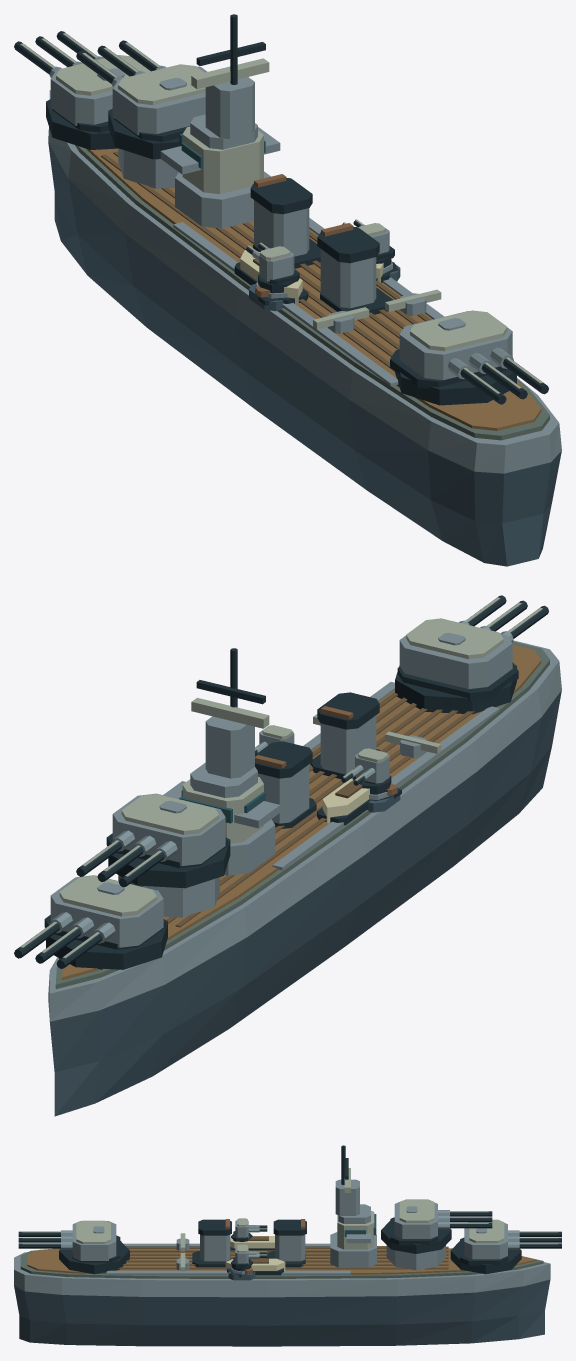
Rendered from historic-alaska.glb.
3 renders of one model, top to bottom at view 1: azimuth 30°, elevation 25°; view 2: azimuth 150°, elevation 25°; view 3: azimuth 270°, elevation 25°, orthographic. The views are drawn at different scales.
Visible parts, largest first — view 1: historic-alaska-historic-alaska-geometry, historic-alaska-part_bridge.103-geometry, historic-alaska-turret_main_2.063-geometry, historic-alaska-turret_main_1.070-geometry, historic-alaska-turret_main_0.074-geometry, historic-alaska-historic_funnel_1.053-geometry, historic-alaska-historic_funnel_0.101-geometry, historic-alaska-turret_aa_aa-port.105-geometry, historic-alaska-historic_catapult_1.004-geometry, historic-alaska-historic_catapult_0.018-geometry, historic-alaska-turret_aa_aa-starboard.101-geometry; view 2: historic-alaska-historic-alaska-geometry, historic-alaska-turret_main_2.063-geometry, historic-alaska-part_bridge.103-geometry, historic-alaska-turret_main_1.070-geometry, historic-alaska-turret_main_0.074-geometry, historic-alaska-historic_funnel_1.053-geometry, historic-alaska-historic_funnel_0.101-geometry, historic-alaska-turret_aa_aa-port.105-geometry, historic-alaska-historic_catapult_0.018-geometry, historic-alaska-turret_aa_aa-starboard.101-geometry; view 3: historic-alaska-historic-alaska-geometry, historic-alaska-turret_main_1.070-geometry, historic-alaska-turret_main_2.063-geometry, historic-alaska-turret_main_0.074-geometry, historic-alaska-part_bridge.103-geometry, historic-alaska-historic_funnel_1.053-geometry, historic-alaska-historic_funnel_0.101-geometry, historic-alaska-turret_aa_aa-starboard.101-geometry, historic-alaska-turret_aa_aa-port.105-geometry.
Part boxes in pixels (bbox=[...]): historic-alaska-historic-alaska-geometry: bbox=[48, 90, 561, 566]; historic-alaska-part_bridge.103-geometry: bbox=[160, 14, 280, 228]; historic-alaska-turret_main_2.063-geometry: bbox=[390, 310, 548, 405]; historic-alaska-turret_main_1.070-geometry: bbox=[76, 40, 207, 159]; historic-alaska-turret_main_0.074-geometry: bbox=[14, 31, 150, 149]; historic-alaska-historic_funnel_1.053-geometry: bbox=[317, 223, 392, 314]; historic-alaska-historic_funnel_0.101-geometry: bbox=[250, 174, 320, 268]; historic-alaska-turret_aa_aa-port.105-geometry: bbox=[246, 242, 299, 293]; historic-alaska-historic_catapult_1.004-geometry: bbox=[385, 289, 441, 316]; historic-alaska-historic_catapult_0.018-geometry: bbox=[313, 307, 369, 333]; historic-alaska-turret_aa_aa-starboard.101-geometry: bbox=[342, 219, 394, 267]; historic-alaska-historic-alaska-geometry: bbox=[48, 640, 561, 1116]; historic-alaska-turret_main_2.063-geometry: bbox=[395, 595, 548, 714]; historic-alaska-part_bridge.103-geometry: bbox=[163, 648, 280, 875]; historic-alaska-turret_main_1.070-geometry: bbox=[76, 793, 230, 888]; historic-alaska-turret_main_0.074-geometry: bbox=[14, 875, 167, 969]; historic-alaska-historic_funnel_1.053-geometry: bbox=[310, 692, 380, 779]; historic-alaska-historic_funnel_0.101-geometry: bbox=[255, 741, 316, 828]; historic-alaska-turret_aa_aa-port.105-geometry: bbox=[341, 748, 391, 794]; historic-alaska-historic_catapult_0.018-geometry: bbox=[385, 731, 441, 758]; historic-alaska-turret_aa_aa-starboard.101-geometry: bbox=[255, 725, 294, 754]; historic-alaska-historic-alaska-geometry: bbox=[14, 1236, 550, 1346]; historic-alaska-turret_main_1.070-geometry: bbox=[381, 1199, 492, 1253]; historic-alaska-turret_main_2.063-geometry: bbox=[18, 1220, 129, 1274]; historic-alaska-turret_main_0.074-geometry: bbox=[450, 1219, 561, 1274]; historic-alaska-part_bridge.103-geometry: bbox=[330, 1145, 376, 1267]; historic-alaska-historic_funnel_1.053-geometry: bbox=[192, 1219, 231, 1267]; historic-alaska-historic_funnel_0.101-geometry: bbox=[267, 1219, 306, 1267]; historic-alaska-turret_aa_aa-starboard.101-geometry: bbox=[231, 1244, 267, 1271]; historic-alaska-turret_aa_aa-port.105-geometry: bbox=[231, 1218, 267, 1241].
Size of the model in its own units: 0.7207 by 1.67 by 4.41.
